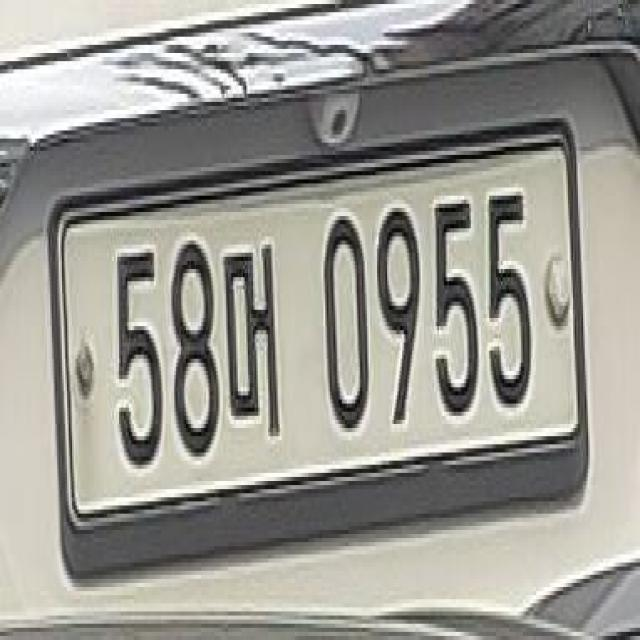0: (316, 209, 371, 438)
5: (112, 231, 164, 470), (484, 180, 534, 424), (432, 183, 480, 433)
8: (167, 228, 224, 468)
9: (376, 192, 424, 425)
license_plate: (37, 121, 598, 599)
meo: (226, 232, 284, 452)
